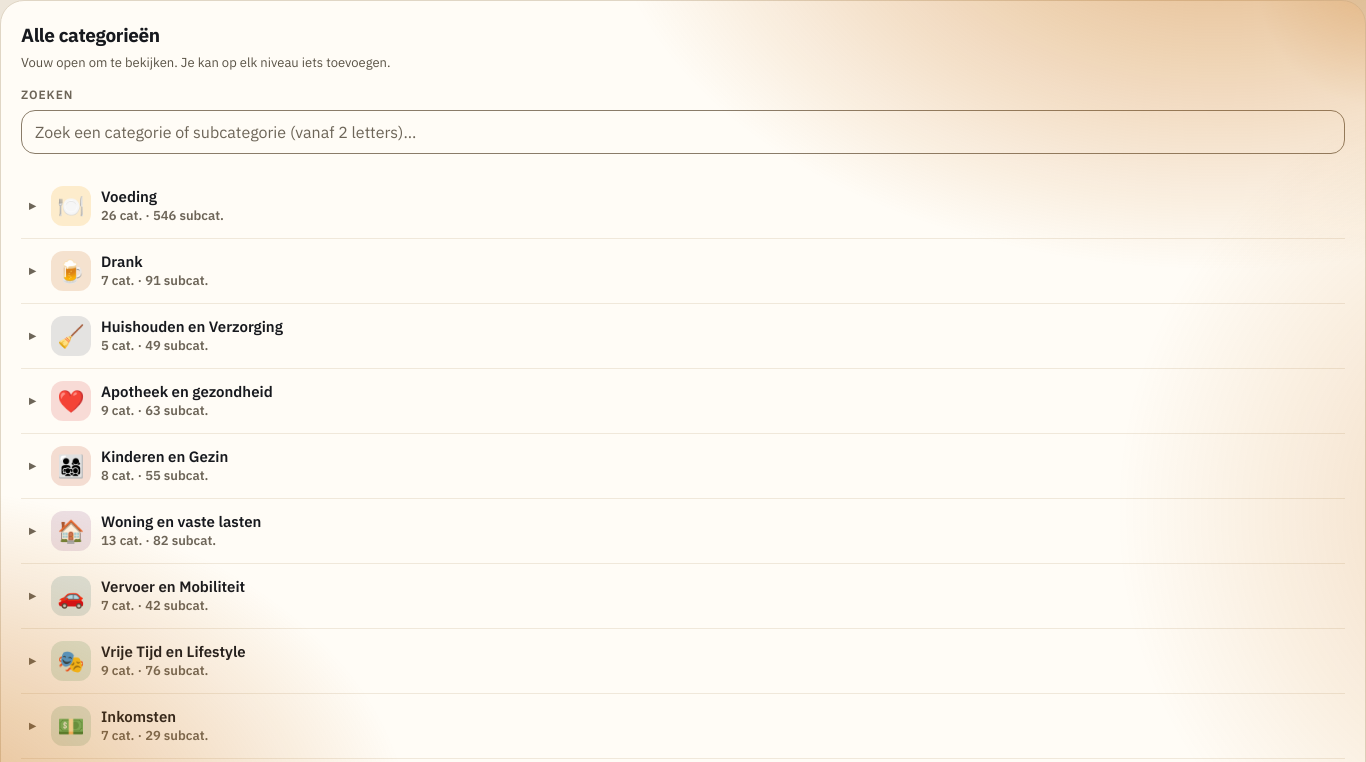
it: CategorieBoom — zoeken houdt de boom hanteerbaar › klapt wél open wanneer de treffer dieper zit
This screenshot has width=1366, height=762.
Step 1. Type "eieren" into the search field labelled "Zoeken" → x=683, y=132, box [21, 110, 1345, 154]
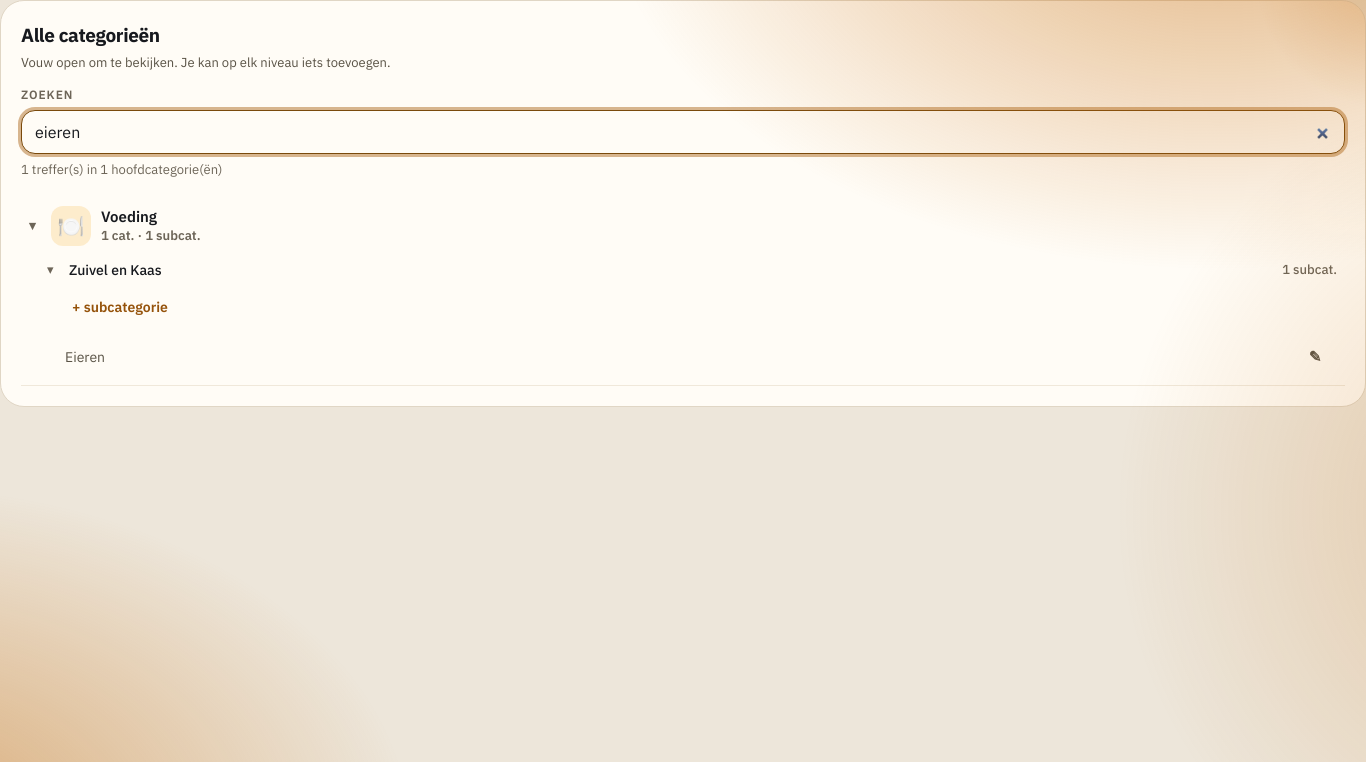
expect the button "▾ 🍽️ Voeding 1 cat. · 1 subcat." is expanded: met, box [21, 196, 1345, 256]
expect the text "Eieren" is shown: met, box [65, 348, 105, 366]
